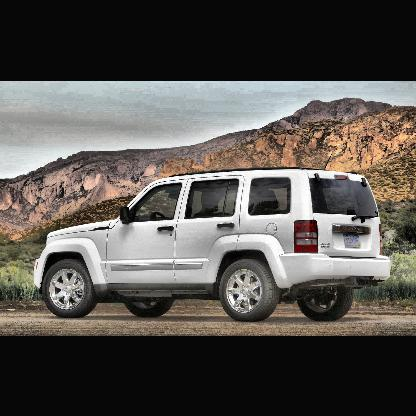Jeep Patriot SUV 2012: (34, 164, 393, 322)
